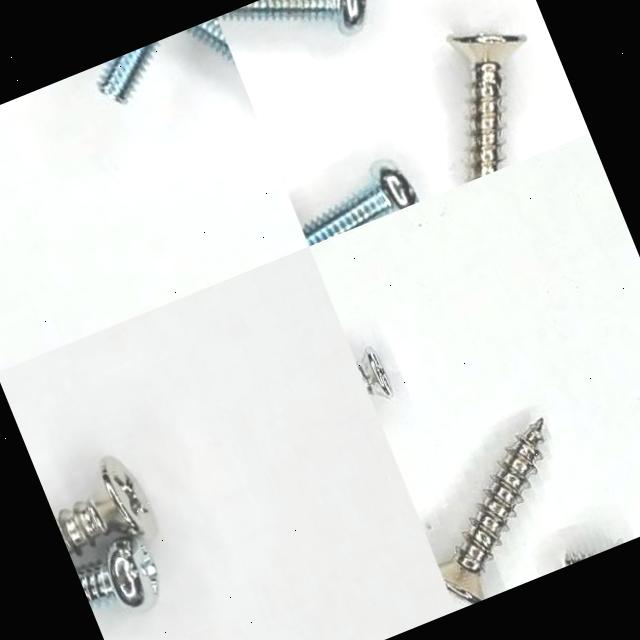Screw: (438, 418, 545, 604), (449, 33, 528, 179), (54, 456, 156, 555), (302, 167, 419, 246), (75, 534, 159, 611), (216, 0, 367, 31), (356, 346, 393, 397), (565, 553, 594, 566)
